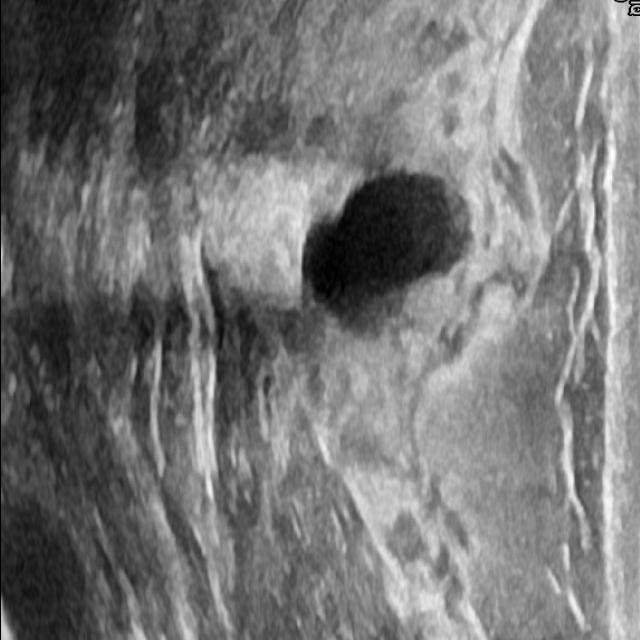Benign: (302, 172, 476, 332)
